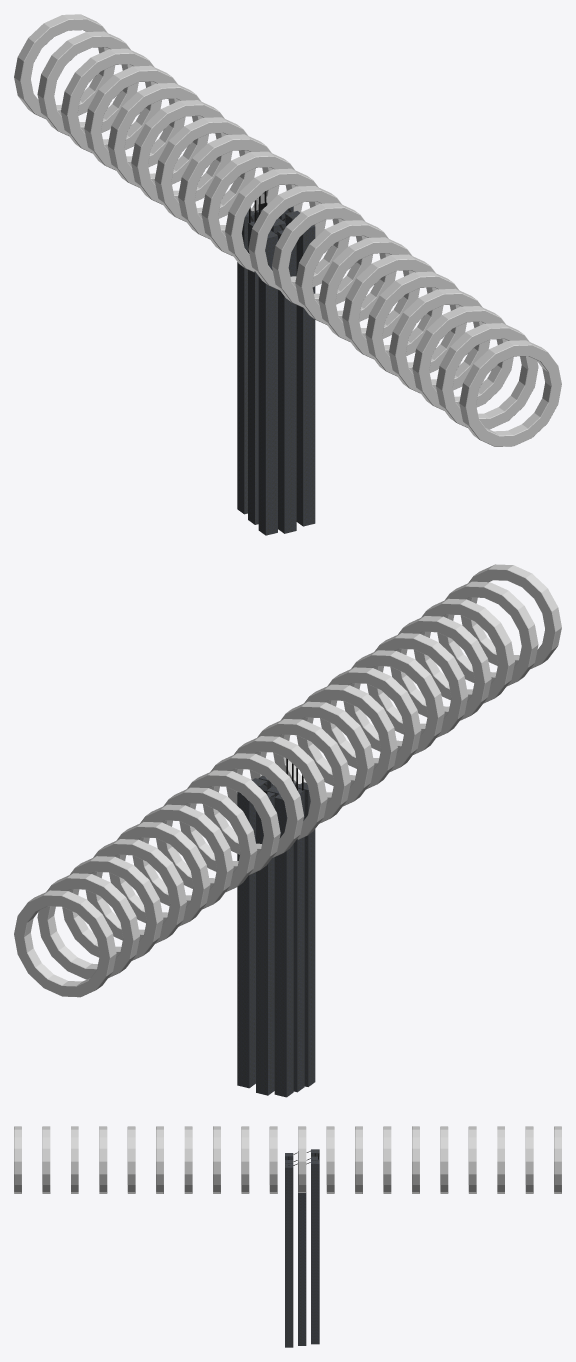
File: GalleryEnvironment_v1.glb
3 views of the same model, one above another, from view 1: azimuth 30°, elevation 25°; view 2: azimuth 150°, elevation 25°; view 3: azimuth 270°, elevation 25° (orthographic). The views are drawn at different scales.
Parts seen in each view (by area): view 1: Rings, Platforms; view 2: Rings, Platforms; view 3: Rings, Platforms.
Boxes of the visible parts, left/top/right/bottom form: Rings: left=14, top=14, right=561, bottom=446; Platforms: left=237, top=206, right=315, bottom=535; Rings: left=14, top=564, right=561, bottom=997; Platforms: left=237, top=775, right=315, bottom=1097; Rings: left=14, top=1126, right=561, bottom=1193; Platforms: left=285, top=1149, right=319, bottom=1347.
Bounding box in the file's own units: 47.57 × 165 × 386.
Materials: 4 (2 with a texture image).
